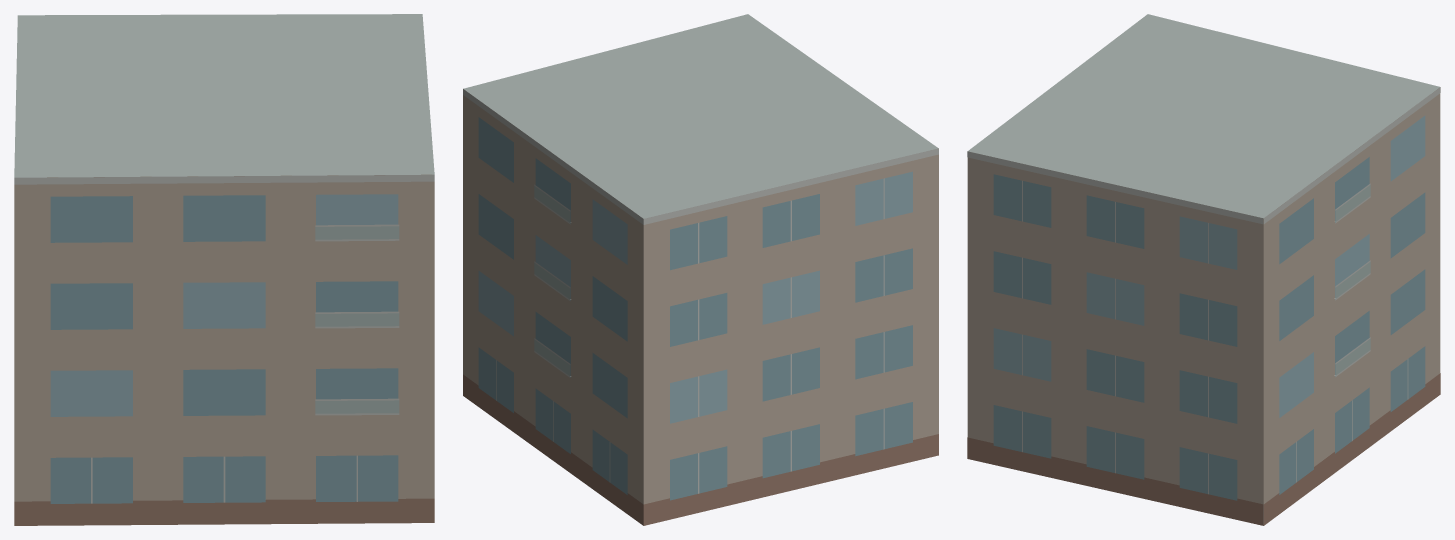
The model's file is survey-upis-32706625.glb.
3 renders of one model, left to right at view 1: azimuth 30°, elevation 25°; view 2: azimuth 150°, elevation 25°; view 3: azimuth 270°, elevation 25°, orthographic. The views are drawn at different scales.
Parts seen in each view (by area): view 1: survey-upis-32706625.tmp; view 2: survey-upis-32706625.tmp; view 3: survey-upis-32706625.tmp.
Part boxes in pixels (x1=…): survey-upis-32706625.tmp: x1=14, y1=14, x2=434, y2=525; survey-upis-32706625.tmp: x1=463, y1=14, x2=938, y2=525; survey-upis-32706625.tmp: x1=967, y1=14, x2=1440, y2=525.
Size of the model in its own units: 17.39 by 12.2 by 17.01.
